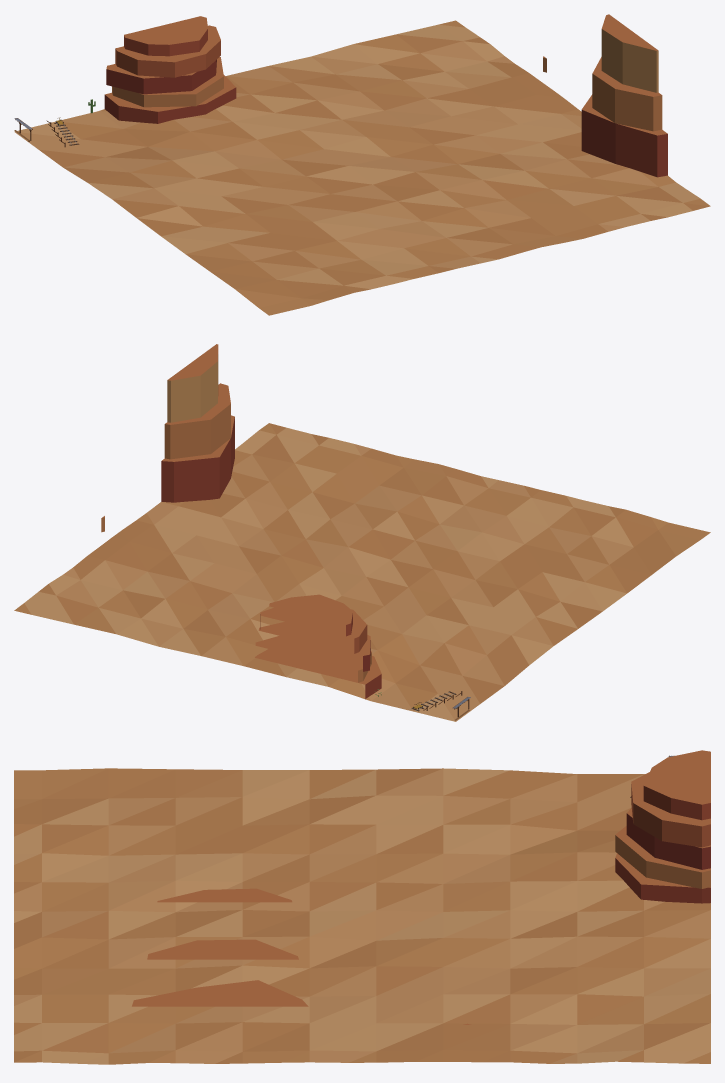
3 views of the same model, one above another, from view 1: azimuth 30°, elevation 25°; view 2: azimuth 150°, elevation 25°; view 3: azimuth 270°, elevation 25° (orthographic). The views are drawn at different scales.
Visible parts, largest first — view 1: baked; view 2: baked; view 3: baked.
Part boxes in pixels (x1,y1,x2,y2): baked: (14,14,710,315); baked: (14,344,710,721); baked: (14,750,710,1064).
Bounding box in the file's own units: 125 × 32.92 × 125.
